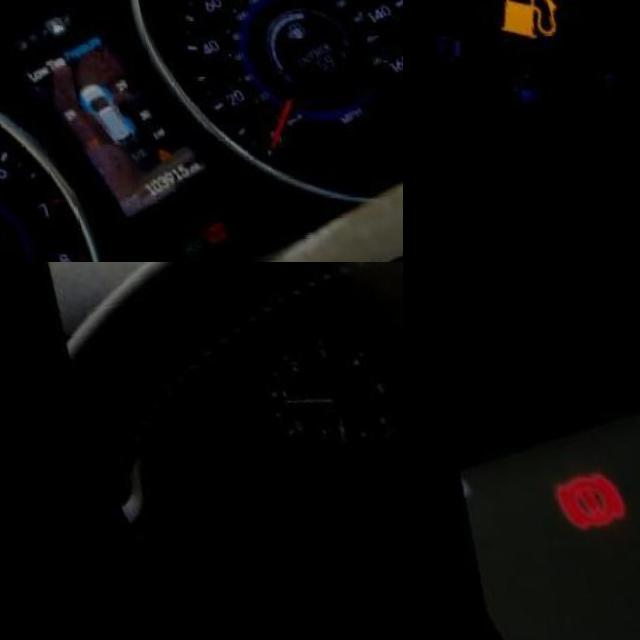Low fuel level: (459, 0, 559, 58)
